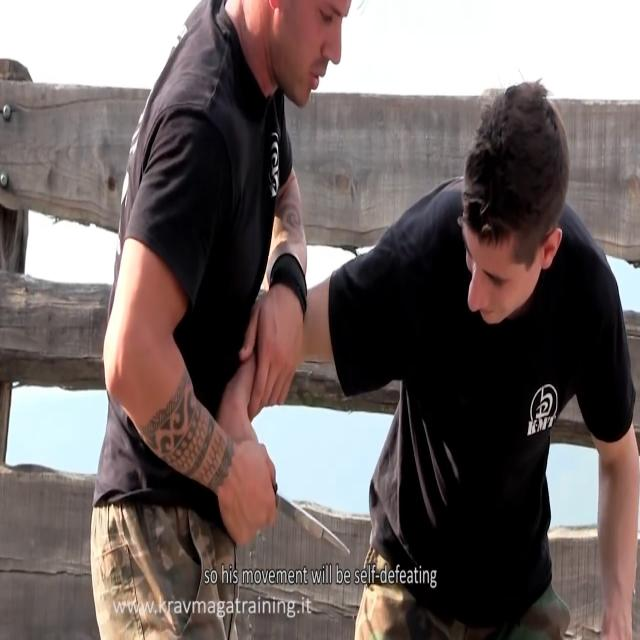knife: (275, 481, 353, 563)
